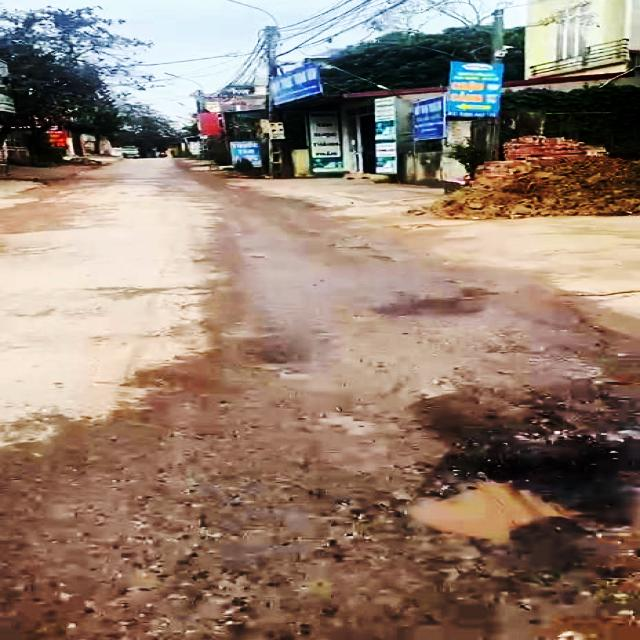pothole: (367, 418, 640, 640)
